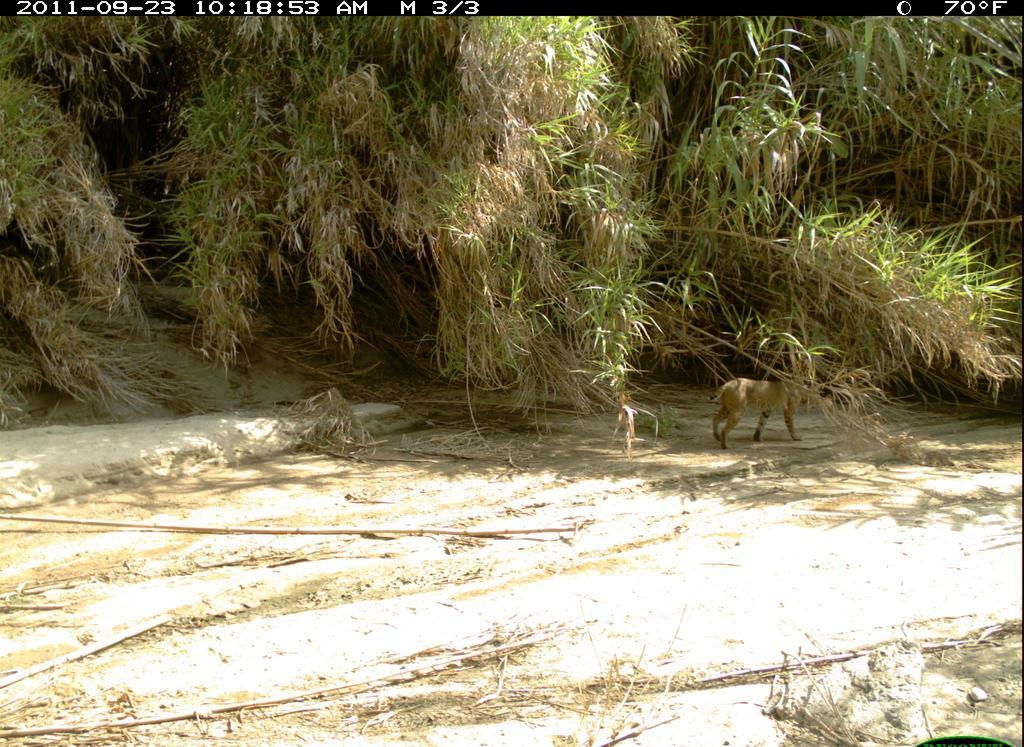bobcat: (712, 377, 824, 452)
